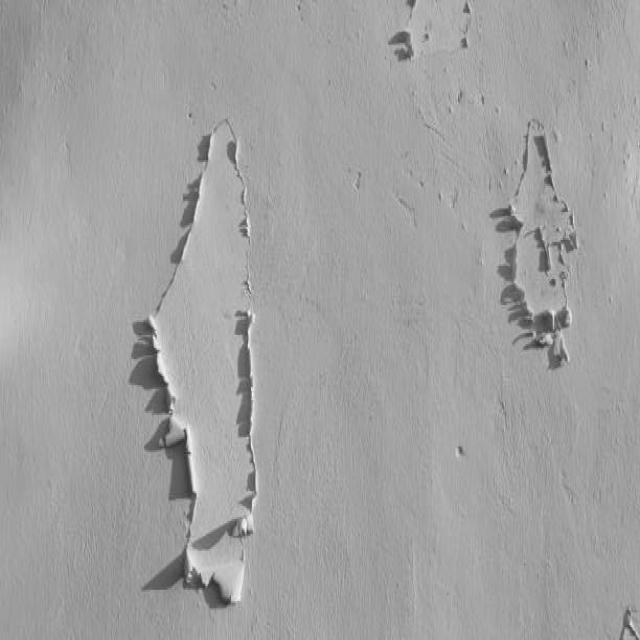peeling paint: (350, 1, 640, 380), (124, 90, 292, 618)
